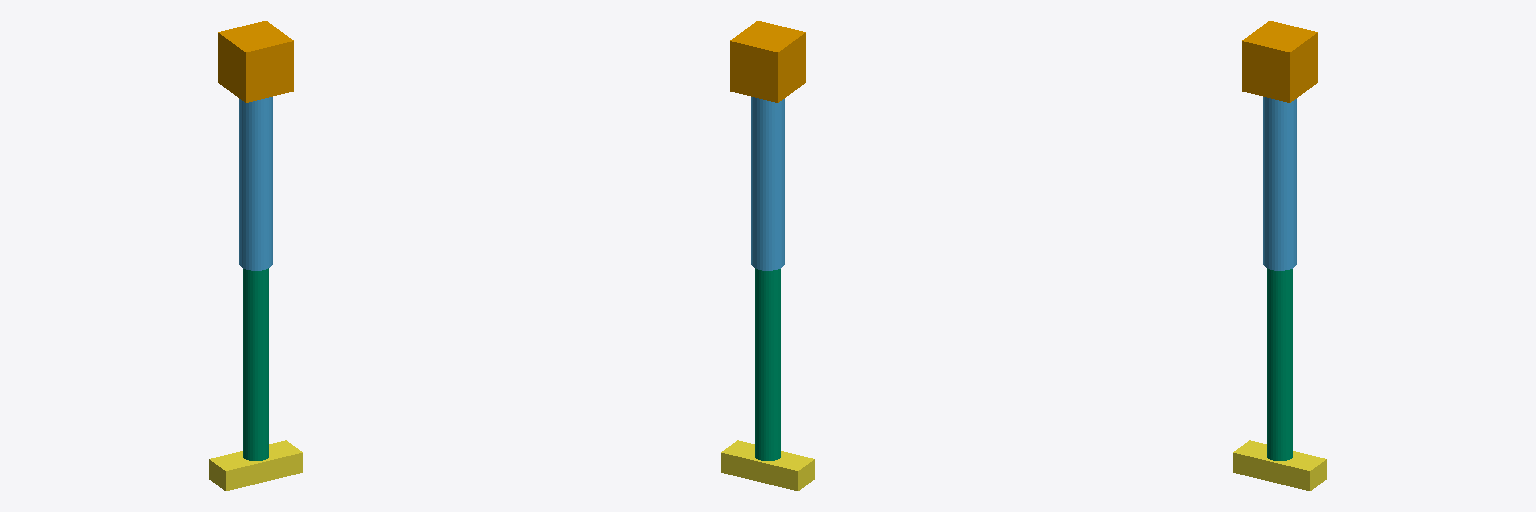
The robot description file, URDF, robot "rviz_leg":
<?xml version="1.0"?>

<robot name="rviz_leg">

<link name="base_link">
  <visual>
    <geometry>
      <box size="0.05 0.05 0.05"/>
    </geometry>
  </visual>
</link>


<link name="upper_leg">
  <visual>
    <origin xyz="0 0 -0.1"/>
    <geometry>
      <cylinder radius="0.015" length="0.2"/>
    </geometry>
  </visual>
</link>


<link name="lower_leg">
  <visual>
    <origin xyz="0 0 -0.1"/>
    <geometry>
      <cylinder radius="0.012" length="0.2"/>
    </geometry>
  </visual>
</link>


<link name="foot">
  <visual>
    <geometry>
      <box size="0.08 0.03 0.02"/>
    </geometry>
  </visual>
</link>



<joint name="Hip" type="revolute">

<parent link="base_link"/>

<child link="upper_leg"/>

<origin xyz="0 0 0"/>

<axis xyz="0 1 0"/>

<limit lower="-1.57" upper="1.57" effort="10" velocity="10"/>

</joint>




<joint name="Knee" type="revolute">

<parent link="upper_leg"/>

<child link="lower_leg"/>

<origin xyz="0 0 -0.2"/>

<axis xyz="0 1 0"/>

<limit lower="-1.57" upper="1.57" effort="10" velocity="10"/>

</joint>




<joint name="Ankle" type="revolute">

<parent link="lower_leg"/>

<child link="foot"/>

<origin xyz="0 0 -0.2"/>

<axis xyz="0 1 0"/>

<limit lower="-1.57" upper="1.57" effort="10" velocity="10"/>

</joint>


</robot>

--- Facts derived from the render (not from the file) ---
3 views of the same robot in one strip: view 1: azimuth 30°, elevation 25°; view 2: azimuth 150°, elevation 25°; view 3: azimuth 330°, elevation 25° (orthographic).
Robot: rviz_leg — 4 links, 3 joints (3 revolute); root link base_link; default pose: all joints at 0.
Visible links, largest first — view 1: upper_leg, base_link, lower_leg, foot; view 2: upper_leg, base_link, lower_leg, foot; view 3: upper_leg, base_link, lower_leg, foot.
Boxes of the visible links, x1,y1,x2,y2 form: upper_leg: [239, 97, 272, 270]; base_link: [218, 21, 293, 102]; lower_leg: [243, 268, 268, 460]; foot: [209, 440, 302, 490]; upper_leg: [751, 97, 784, 270]; base_link: [730, 21, 805, 102]; lower_leg: [755, 268, 780, 460]; foot: [721, 440, 814, 490]; upper_leg: [1263, 97, 1296, 270]; base_link: [1242, 21, 1317, 102]; lower_leg: [1267, 268, 1292, 460]; foot: [1233, 440, 1326, 490].
Bounding box of the posed robot: 0.08 × 0.05 × 0.435 m (x, y, z).
Geometry: primitives only (box / cylinder / sphere), no mesh files.
